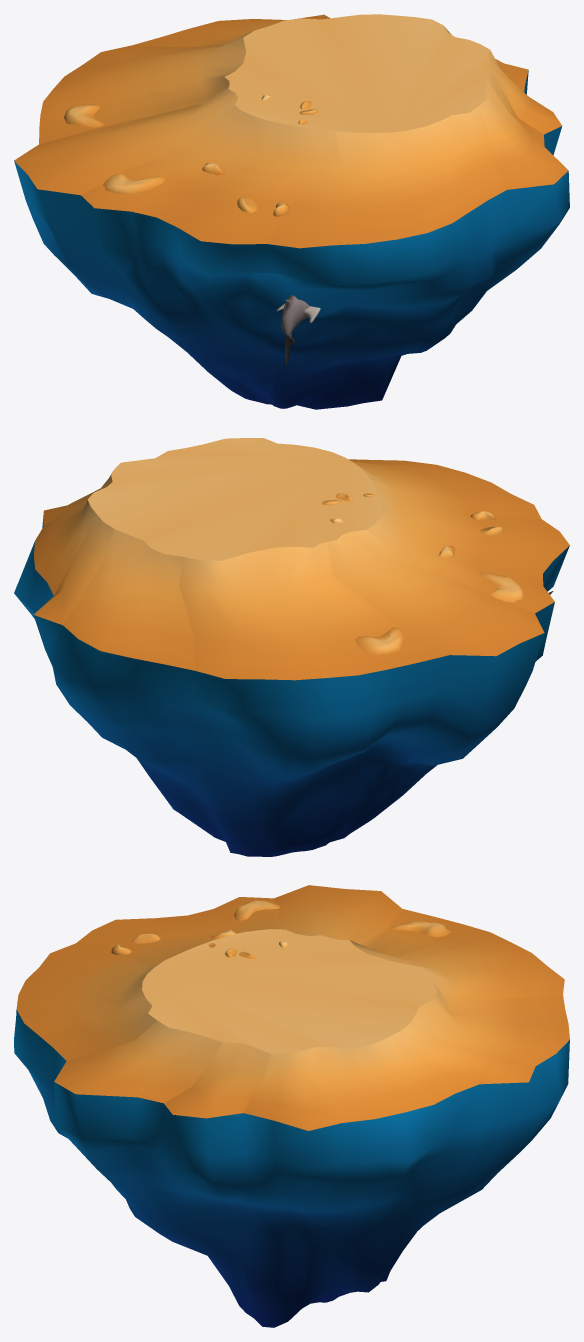
Rendered from Island_V4.fbx.
3 views of the same model, one above another, from view 1: azimuth 30°, elevation 25°; view 2: azimuth 150°, elevation 25°; view 3: azimuth 270°, elevation 25° (orthographic). The views are drawn at different scales.
Visible parts, largest first — view 1: Island_V4; view 2: Island_V4; view 3: Island_V4.
Boxes of the visible parts, left/top/right/bottom form: Island_V4: left=14, top=14, right=569, bottom=409; Island_V4: left=14, top=438, right=569, bottom=856; Island_V4: left=14, top=885, right=569, bottom=1327.
Size of the model in its own units: 5323 by 3398 by 5086.
